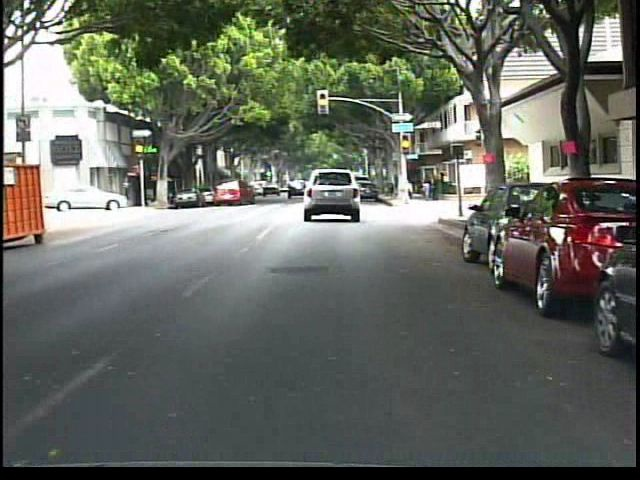person: (427, 168, 441, 204), (422, 172, 434, 202)
